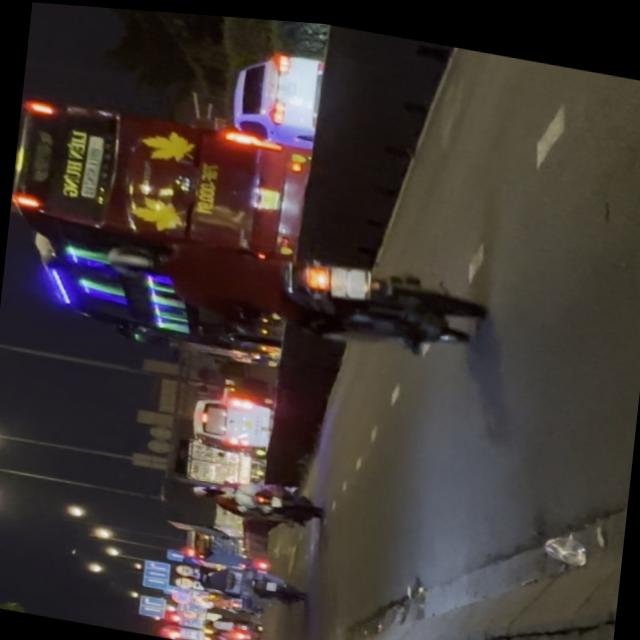helmet: (104, 235, 168, 282)
licenseplate: (97, 209, 484, 359)
nohelmet: (328, 257, 370, 296)
